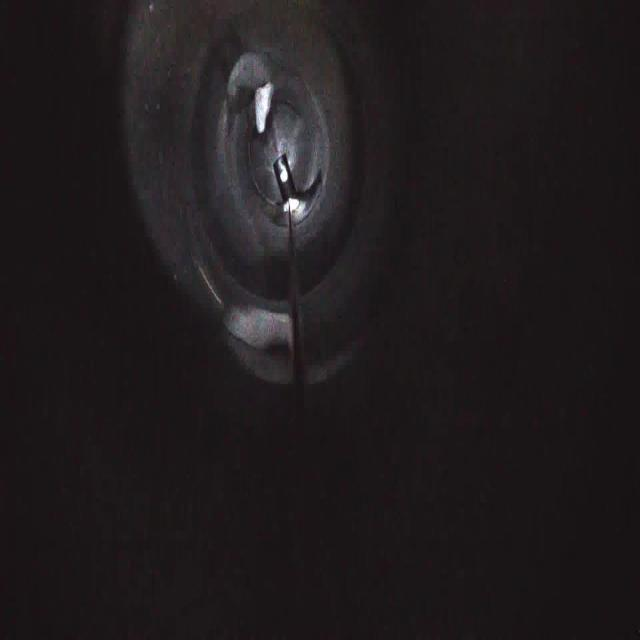impurity: (250, 75, 279, 140)
